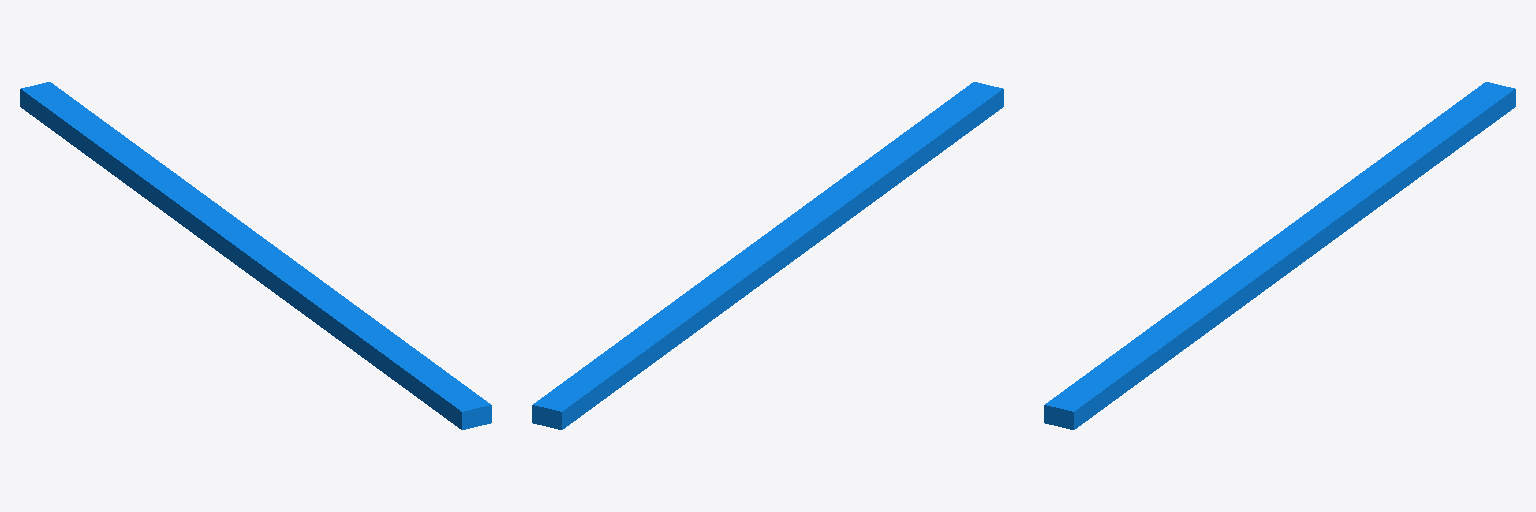
The robot description file, URDF, robot "goal_marker":
<?xml version="1.0"?>
<!-- Goal-line marker: a thin flat box so the demo video shows where to score. -->
<robot name="goal_marker">
  <link name="goal">
    <collision>
      <geometry>
        <box size="0.1 2.6 0.06"/>
      </geometry>
    </collision>
    <visual>
      <geometry>
        <box size="0.1 2.6 0.06"/>
      </geometry>
      <material name="goal">
        <color rgba="0.1 0.6 1.0 0.5"/>
      </material>
    </visual>
  </link>
</robot>

--- Render facts (derived) ---
3 views of the same robot in one strip: view 1: azimuth 30°, elevation 25°; view 2: azimuth 150°, elevation 25°; view 3: azimuth 330°, elevation 25° (orthographic).
Model goal_marker with 1 links and 0 joints (none), rooted at goal, posed every joint at zero.
Links seen in each view (by area): view 1: goal; view 2: goal; view 3: goal.
Boxes of the visible links, left/top/right/bottom form: goal: left=20, top=82, right=491, bottom=429; goal: left=532, top=82, right=1003, bottom=429; goal: left=1044, top=82, right=1515, bottom=429.
Bounding box of the posed robot: 0.1 × 2.6 × 0.06 m (x, y, z).
Geometry: primitives only (box / cylinder / sphere), no mesh files.
